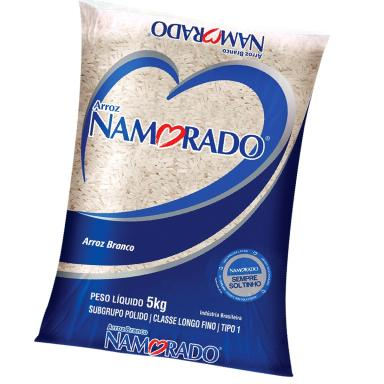rice package: (37, 1, 327, 375)
